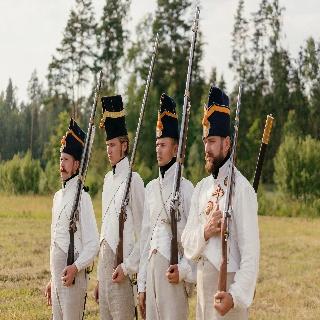rifle: (114, 32, 161, 280), (168, 5, 202, 271), (64, 69, 105, 287), (216, 84, 243, 298)
